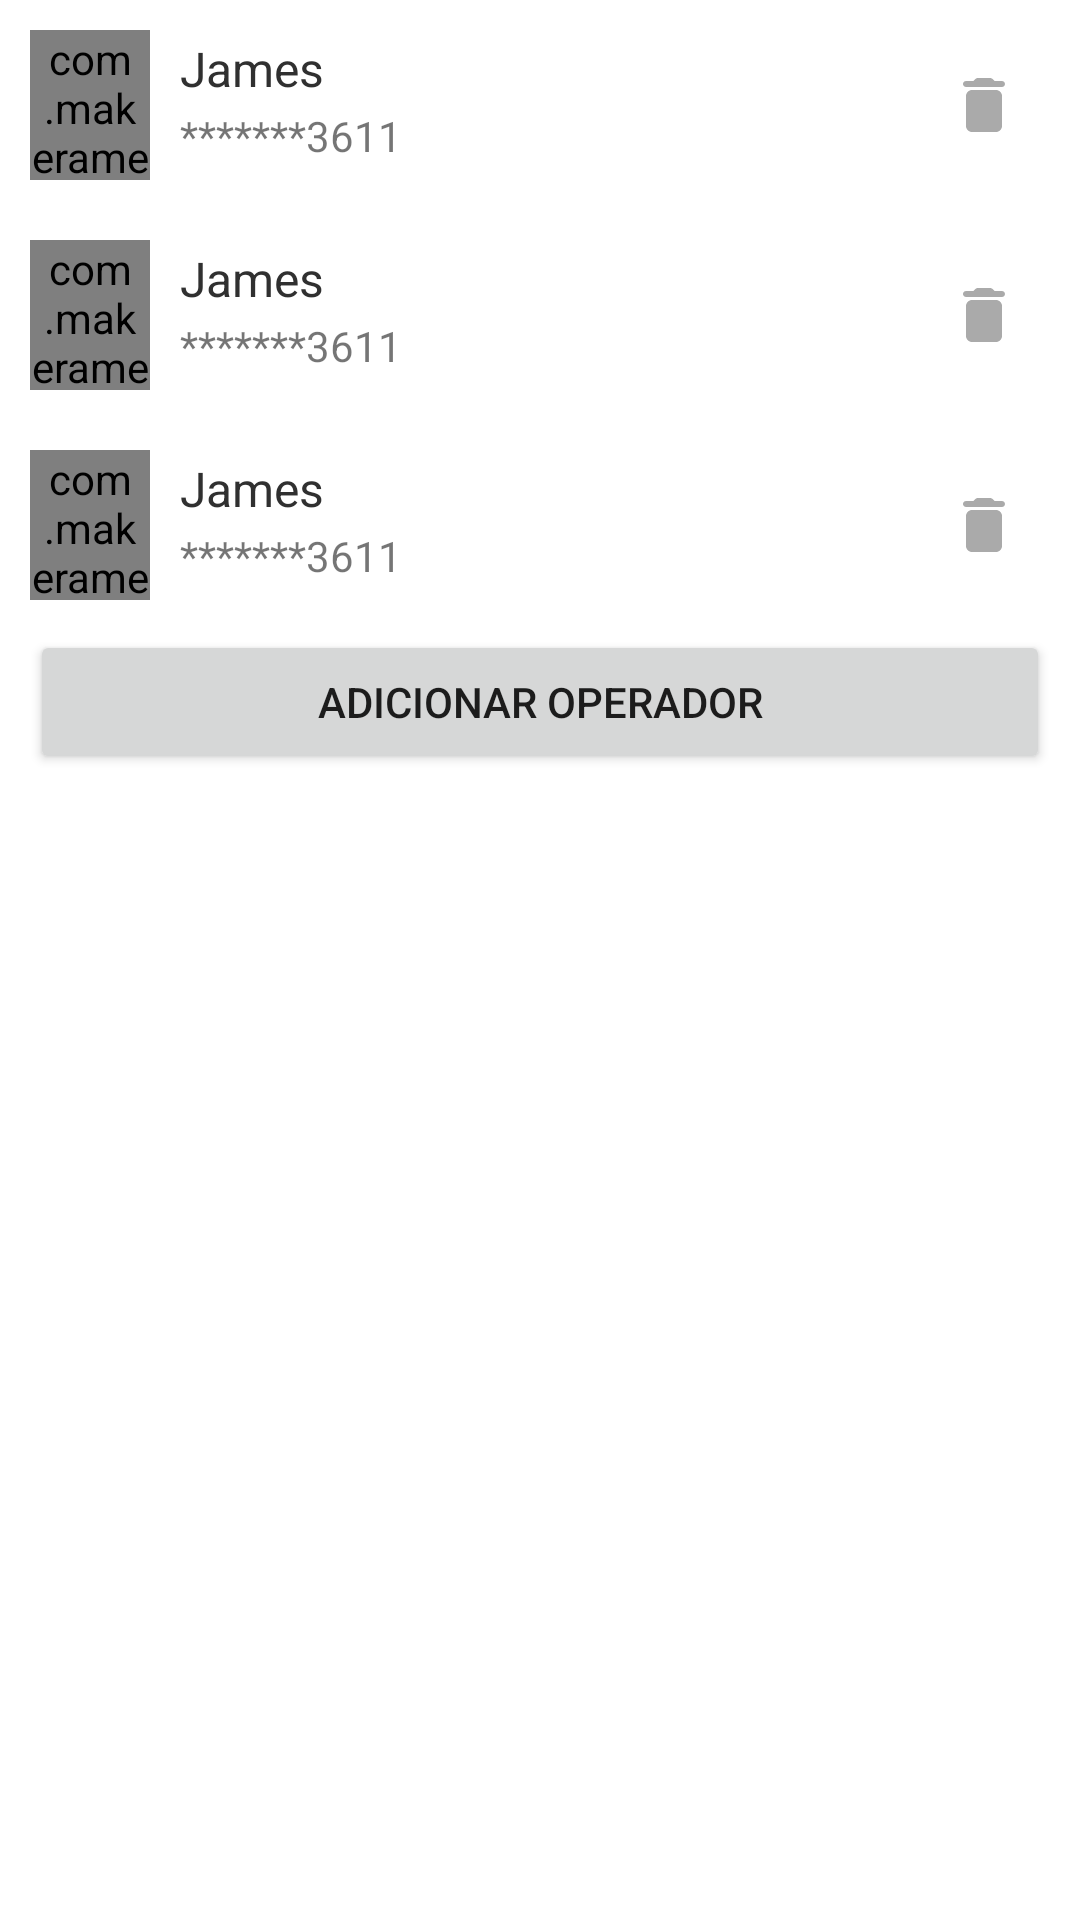

Icon bounding boxes for this 1080×1920 phone screenshot, format (x1, y1, x2, y2):
delete: (963, 78, 1005, 132), (963, 288, 1005, 342), (963, 498, 1005, 552)
